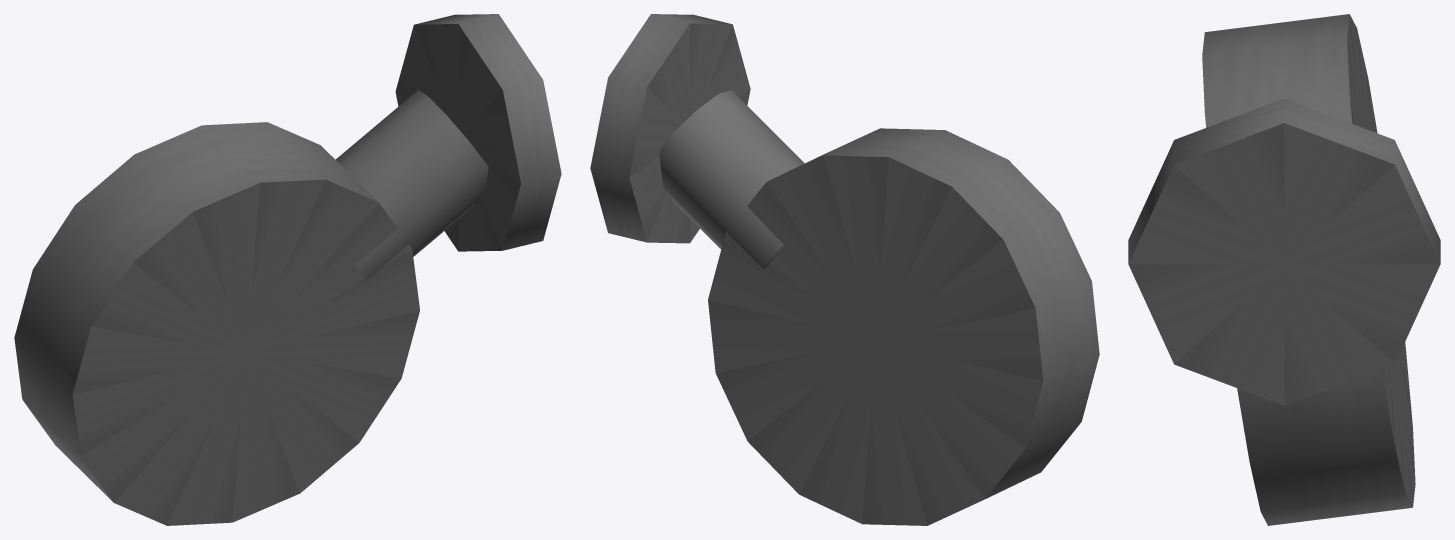
File: mastarmcurve_10x2_c8_east.obj
The picture shows the model from 3 angles, left to right: view 1: azimuth 30°, elevation 25°; view 2: azimuth 150°, elevation 25°; view 3: azimuth 270°, elevation 25°; orthographic projection. The views are drawn at different scales.
Parts seen in each view (by area): view 1: mastarm_10x2_c8_east; view 2: mastarm_10x2_c8_east; view 3: mastarm_10x2_c8_east.
Part boxes in pixels (x1=…): mastarm_10x2_c8_east: x1=14, y1=14, x2=561, y2=525; mastarm_10x2_c8_east: x1=590, y1=14, x2=1099, y2=525; mastarm_10x2_c8_east: x1=1128, y1=14, x2=1440, y2=525.
Bounding box in the file's own units: 0.8186 × 0.7698 × 0.4.
